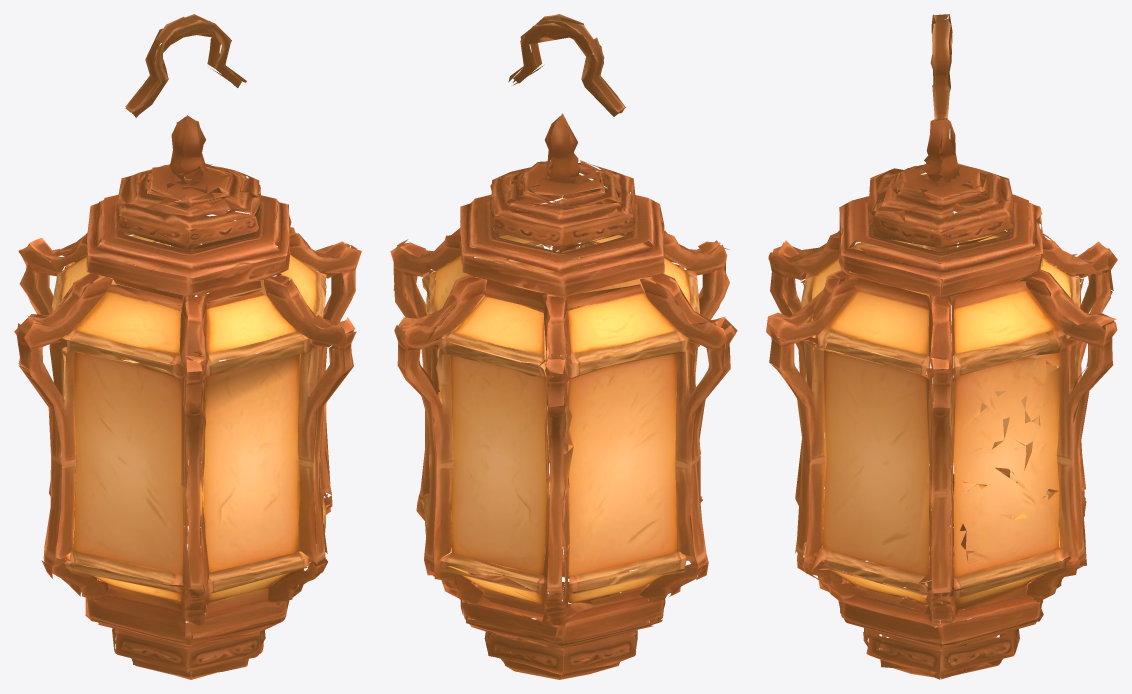
The model's file is item_wooden_lantern.glb.
3 renders of one model, left to right at view 1: azimuth 30°, elevation 25°; view 2: azimuth 150°, elevation 25°; view 3: azimuth 270°, elevation 25°, orthographic.
Visible parts, largest first — view 1: ITEM_WoodenLantern; view 2: ITEM_WoodenLantern; view 3: ITEM_WoodenLantern.
Boxes of the visible parts, box(x1,y1,x2,y2) form: ITEM_WoodenLantern: box(14, 14, 361, 679); ITEM_WoodenLantern: box(390, 14, 737, 679); ITEM_WoodenLantern: box(766, 14, 1117, 679).
Size of the model in its own units: 0.2798 by 0.5 by 0.2511.
Materials: 1 (1 with a texture image).
